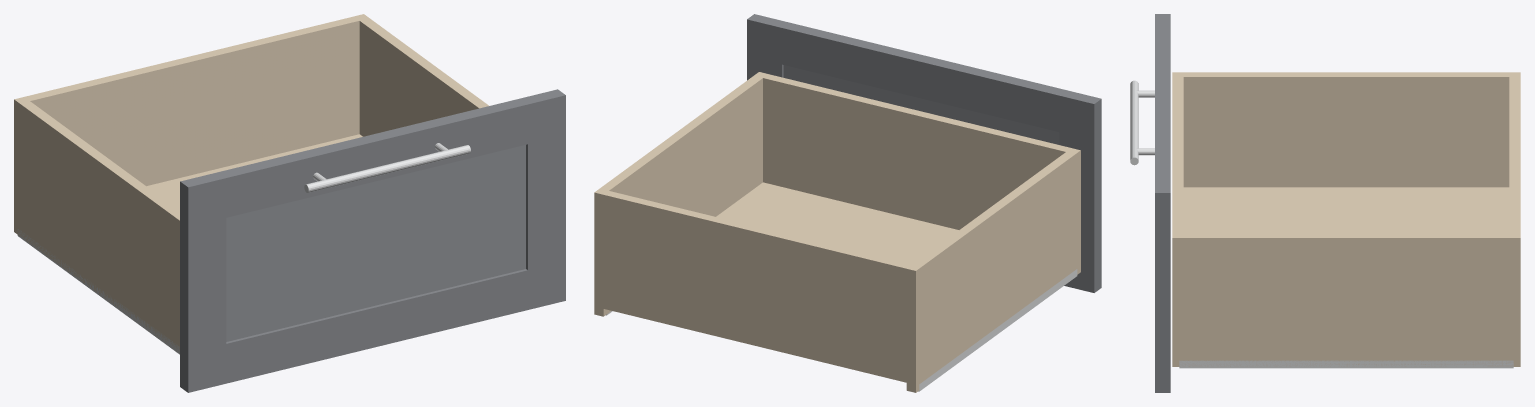
The model's file is skuff_K4_2.glb.
The picture shows the model from 3 angles, left to right: view 1: azimuth 30°, elevation 25°; view 2: azimuth 150°, elevation 25°; view 3: azimuth 270°, elevation 25°; orthographic projection. The views are drawn at different scales.
Size of the model in its own units: 596 by 310 by 549.
